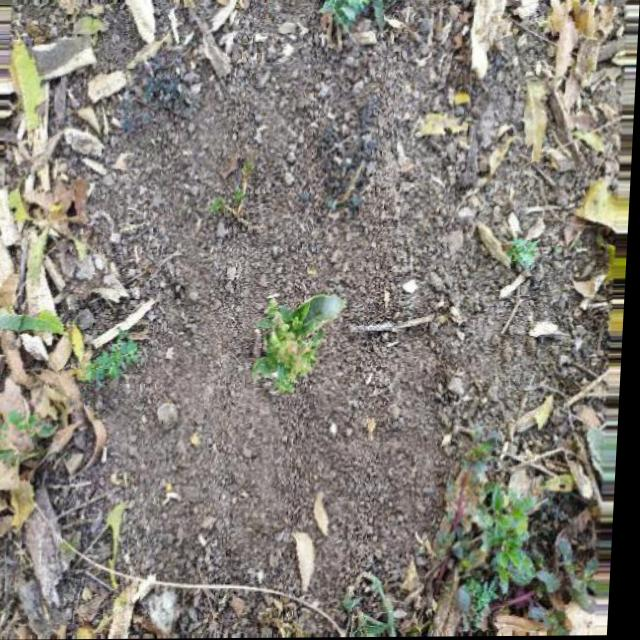weed: (240, 283, 351, 410)
